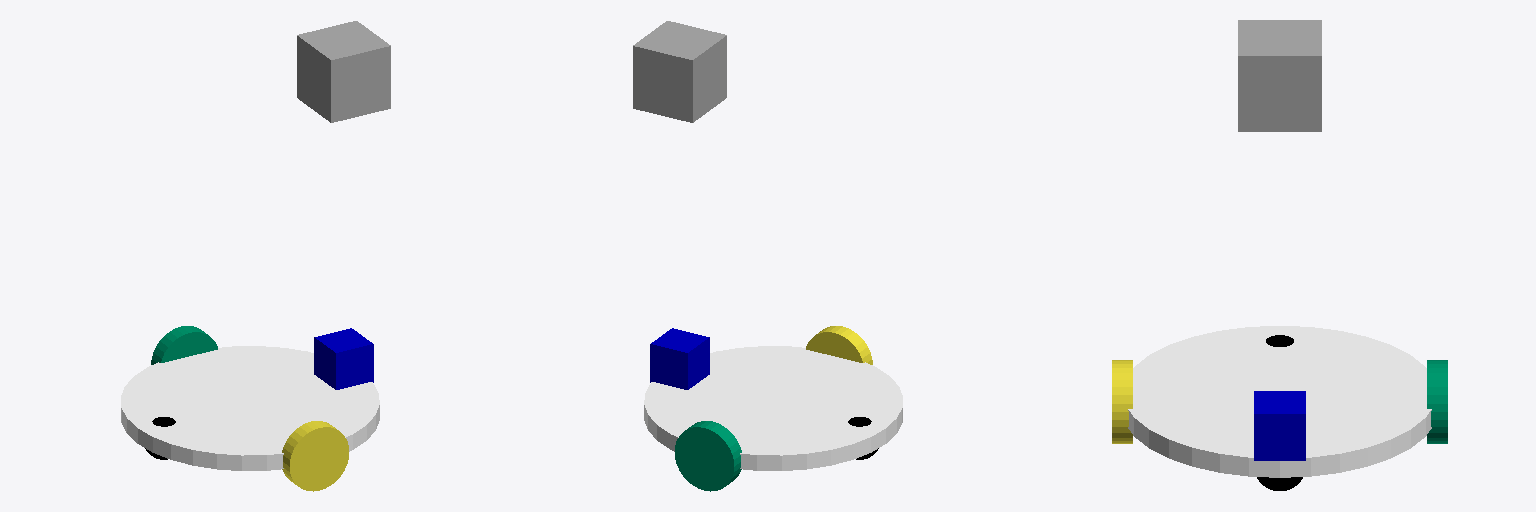
The robot description file, URDF, robot "differential_wheeled_robot":
<?xml version="1.0" ?>
<!-- =================================================================================== -->
<!-- |    This document was autogenerated by xacro from diff_wheeled_robot.xacro       | -->
<!-- |    EDITING THIS FILE BY HAND IS NOT RECOMMENDED                                 | -->
<!-- =================================================================================== -->
<robot name="differential_wheeled_robot" xmlns:xacro="http://www.ros.org/wiki/xacro">
  <!-- Wheels -->
  <!-- in kg-->
  <!-- Defining the colors used in this robot -->
  <material name="Black">
    <color rgba="0.0 0.0 0.0 1.0"/>
  </material>
  <material name="Red">
    <color rgba="0.8 0.0 0.0 1.0"/>
  </material>
  <material name="White">
    <color rgba="1.0 1.0 1.0 1.0"/>
  </material>
  <material name="Blue">
    <color rgba="0.0 0.0 0.8 1.0"/>
  </material>
  <!-- PROPERTY LIST -->
  <!--All units in m-kg-s-radians unit system -->
  <!-- Main body radius and height -->
  <!-- Main Body Cylinder base   -->
  <!-- in kg-->
  <!-- caster wheel radius and height -->
  <!-- caster wheel mass -->
  <!-- in kg-->
  <!-- caster wheel radius and height -->
  <!-- caster wheel mass -->
  <!-- in kg-->
  <!-- Wheels -->
   --&gt; 
  <!-- in kg-->
  <!-- Hokuyo Laser scanner -->
  <!-- Macro for calculating inertia of cylinder -->
  <!-- BASE-FOOTPRINT -->
  <!-- base_footprint is a fictitious link(frame) that is on the ground right below base_link origin -->
  <link name="base_footprint">
    <inertial>
      <mass value="0.0001"/>
      <origin xyz="0 0 0"/>
      <inertia ixx="0.0001" ixy="0.0" ixz="0.0" iyy="0.0001" iyz="0.0" izz="0.0001"/>
    </inertial>
    <visual>
      <origin rpy="0 0 0" xyz="0 0 0"/>
      <geometry>
        <box size="0.001 0.001 0.001"/>
      </geometry>
    </visual>
  </link>
  <gazebo reference="base_footprint">
    <turnGravityOff>false</turnGravityOff>
  </gazebo>
  <joint name="base_footprint_joint" type="fixed">
    <origin rpy="0 0 0" xyz="0 0 0.04"/>
    <parent link="base_footprint"/>
    <child link="base_link"/>
  </joint>
  <!-- BASE-LINK -->
  <!--Actual body/chassis of the robot-->
  <link name="base_link">
    <inertial>
      <mass value="5"/>
      <origin xyz="0 0 0"/>
      <!--The 3x3 rotational inertia matrix. -->
      <inertia ixx="0.0282916666667" ixy="0" ixz="0" iyy="0.0282916666667" iyz="0" izz="0.05625"/>
    </inertial>
    <visual>
      <origin rpy="0 0 0" xyz="0 0 0"/>
      <geometry>
        <cylinder length="0.02" radius="0.15"/>
      </geometry>
      <material name="White"/>
    </visual>
    <collision>
      <origin rpy="0 0 0 " xyz="0 0 0"/>
      <geometry>
        <cylinder length="0.02" radius="0.15"/>
      </geometry>
    </collision>
  </link>
  <gazebo reference="base_link">
    <material>Gazebo/White</material>
    <turnGravityOff>false</turnGravityOff>
  </gazebo>
  <!--fb : front, back ; lr: left, right -->
  <link name="front_right_wheel">
    <visual>
      <origin rpy="1.57079632679 0  0 " xyz="0 0 0"/>
      <geometry>
        <cylinder length="0.02" radius="0.04"/>
      </geometry>
      <material name="DarkGray"/>
    </visual>
    <collision>
      <origin rpy="1.57079632679 0 0 " xyz="0 0 0"/>
      <geometry>
        <cylinder length="0.02" radius="0.04"/>
      </geometry>
    </collision>
    <inertial>
      <mass value="2.5"/>
      <origin xyz="0 0 0"/>
      <inertia ixx="0.00108333333333" ixy="0" ixz="0" iyy="0.00108333333333" iyz="0" izz="0.002"/>
    </inertial>
  </link>
  <gazebo reference="front_right_wheel">
    <mu1 value="1.0"/>
    <mu2 value="1.0"/>
    <kp value="10000000.0"/>
    <kd value="1.0"/>
    <fdir1 value="1 0 0"/>
    <material>Gazebo/Grey</material>
    <turnGravityOff>false</turnGravityOff>
  </gazebo>
  <joint name="front_right_wheel_joint" type="continuous">
    <parent link="base_link"/>
    <child link="front_right_wheel"/>
    <origin rpy="0 0 0" xyz="0.0 0.15 0.0"/>
    <axis rpy="0  0" xyz="0 1 0"/>
    <limit effort="100" velocity="100"/>
    <joint_properties damping="0.0" friction="0.0"/>
  </joint>
  <!-- Transmission is important to link the joints and the controller -->
  <transmission name="front_right_wheel_joint_trans">
    <type>transmission_interface/SimpleTransmission</type>
    <joint name="front_right_wheel_joint"/>
    <actuator name="front_right_wheel_joint_motor">
      <hardwareInterface>EffortJointInterface</hardwareInterface>
      <mechanicalReduction>1</mechanicalReduction>
    </actuator>
  </transmission>
  <!--fb : front, back ; lr: left, right -->
  <link name="front_left_wheel">
    <visual>
      <origin rpy="1.57079632679 0  0 " xyz="0 0 0"/>
      <geometry>
        <cylinder length="0.02" radius="0.04"/>
      </geometry>
      <material name="DarkGray"/>
    </visual>
    <collision>
      <origin rpy="1.57079632679 0 0 " xyz="0 0 0"/>
      <geometry>
        <cylinder length="0.02" radius="0.04"/>
      </geometry>
    </collision>
    <inertial>
      <mass value="2.5"/>
      <origin xyz="0 0 0"/>
      <inertia ixx="0.00108333333333" ixy="0" ixz="0" iyy="0.00108333333333" iyz="0" izz="0.002"/>
    </inertial>
  </link>
  <gazebo reference="front_left_wheel">
    <mu1 value="1.0"/>
    <mu2 value="1.0"/>
    <kp value="10000000.0"/>
    <kd value="1.0"/>
    <fdir1 value="1 0 0"/>
    <material>Gazebo/Grey</material>
    <turnGravityOff>false</turnGravityOff>
  </gazebo>
  <joint name="front_left_wheel_joint" type="continuous">
    <parent link="base_link"/>
    <child link="front_left_wheel"/>
    <origin rpy="0 0 0" xyz="0.0 -0.15 0.0"/>
    <axis rpy="0  0" xyz="0 1 0"/>
    <limit effort="100" velocity="100"/>
    <joint_properties damping="0.0" friction="0.0"/>
  </joint>
  <!-- Transmission is important to link the joints and the controller -->
  <transmission name="front_left_wheel_joint_trans">
    <type>transmission_interface/SimpleTransmission</type>
    <joint name="front_left_wheel_joint"/>
    <actuator name="front_left_wheel_joint_motor">
      <hardwareInterface>EffortJointInterface</hardwareInterface>
      <mechanicalReduction>1</mechanicalReduction>
    </actuator>
  </transmission>
  <!--Caster front  -->
  <link name="caster_front_link">
    <visual>
      <origin rpy="1.57079632679 0 0" xyz="0 0.02 0"/>
      <geometry>
        <sphere radius="0.025"/>
      </geometry>
      <material name="Black"/>
    </visual>
    <collision>
      <geometry>
        <sphere radius="0.025"/>
      </geometry>
      <origin rpy="1.57079632679 0 0" xyz="0 0.02 0"/>
    </collision>
    <inertial>
      <mass value="0.5"/>
      <origin xyz="0 0 0"/>
      <inertia ixx="0.001" ixy="0.0" ixz="0.0" iyy="0.001" iyz="0.0" izz="0.001"/>
    </inertial>
  </link>
  <joint name="caster_front_joint" type="fixed">
    <parent link="base_link"/>
    <child link="caster_front_link"/>
    <origin rpy="-1.57079632679 0 0" xyz="0.115 0.0 0.007"/>
  </joint>
  <gazebo reference="caster_front_link">
    <turnGravityOff>false</turnGravityOff>
  </gazebo>
  <!--Caster back  -->
  <link name="caster_back_link">
    <visual>
      <origin rpy="1.57079632679 0 0" xyz="0.02 0.02 0 "/>
      <geometry>
        <sphere radius="0.025"/>
      </geometry>
      <material name="Black"/>
    </visual>
    <collision>
      <geometry>
        <sphere radius="0.025"/>
      </geometry>
      <origin rpy="1.57079632679 0 0" xyz="0 0.02 0 "/>
    </collision>
    <inertial>
      <mass value="0.5"/>
      <origin xyz="0 0 0"/>
      <inertia ixx="0.001" ixy="0.0" ixz="0.0" iyy="0.001" iyz="0.0" izz="0.001"/>
    </inertial>
  </link>
  <joint name="caster_back_joint" type="fixed">
    <parent link="base_link"/>
    <child link="caster_back_link"/>
    <origin rpy="-1.57079632679 0 0" xyz="-0.135 0.0 0.009"/>
  </joint>
  <gazebo reference="caster_back_link">
    <turnGravityOff>false</turnGravityOff>
  </gazebo>
  <!-- SENSORS -->
  <!-- hokuyo -->
  <link name="hokuyo_link">
    <visual>
      <origin rpy="0 0 0" xyz="0 0 0"/>
      <geometry>
        <box size="0.05 0.05 0.05"/>
      </geometry>
      <material name="Blue"/>
    </visual>
  </link>
  <joint name="hokuyo_joint" type="fixed">
    <origin rpy="0 0 0" xyz="0.125 0 0.0325"/>
    <parent link="base_link"/>
    <child link="hokuyo_link"/>
  </joint>
  <gazebo reference="hokuyo_link">
    <material>Gazebo/Blue</material>
    <turnGravityOff>false</turnGravityOff>
    <sensor name="head_hokuyo_sensor" type="ray">
      <pose>0.025 0 0 0 0 0</pose>
      <visualize>false</visualize>
      <update_rate>40</update_rate>
      <ray>
        <scan>
          <horizontal>
            <samples>720</samples>
            <resolution>1</resolution>
            <min_angle>-1.5707</min_angle>
            <max_angle>1.5707</max_angle>
          </horizontal>
        </scan>
        <range>
          <min>0.10</min>
          <max>10.0</max>
          <resolution>0.001</resolution>
        </range>
      </ray>
      <plugin filename="libgazebo_ros_laser.so" name="gazebo_ros_head_hokuyo_controller">
        <topicName>/scan</topicName>
        <frameName>hokuyo_link</frameName>
      </plugin>
    </sensor>
  </gazebo>
  
  <!-- Camera -->
  <link name="camera_link">
    <visual>
      <origin xyz="0 0 0" rpy="0 0 0" />
      <geometry>
        <box size="0.08 0.08 0.08"/>
      </geometry>
      <material name="Gray" />
    </visual>
  </link>
  <joint name="camera_joint" type="fixed">
    <origin rpy="0 0 0" xyz="0.125 0 0.4"/>
    <parent link="base_link"/>
    <child link="camera_link" />
  </joint>

<gazebo reference="camera_link">
    <sensor type="camera" name="camera1">
      <update_rate>30.0</update_rate>
      <camera name="head">
        <horizontal_fov>1.3962634</horizontal_fov>
        <image>
          <width>640</width>
          <height>480</height>
          <format>R8G8B8</format>
        </image>
        <clip>
          <near>0.02</near>
          <far>300</far>
        </clip>
        <noise>
          <type>gaussian</type>
          <!-- Noise is sampled independently per pixel on each frame.
               That pixel's noise value is added to each of its color
               channels, which at that point lie in the range [0,1]. -->
          <mean>0.0</mean>
          <stddev>0.007</stddev>
        </noise>
      </camera>
      <plugin name="camera_controller" filename="libgazebo_ros_camera.so">
        <alwaysOn>true</alwaysOn>
        <updateRate>0.0</updateRate>
        <cameraName>diff_robot/camera</cameraName>
        <imageTopicName>image_raw</imageTopicName>
        <cameraInfoTopicName>camera_info</cameraInfoTopicName>
        <frameName>camera_link</frameName>
        <hackBaseline>0.07</hackBaseline>
        <distortionK1>0.0</distortionK1>
        <distortionK2>0.0</distortionK2>
        <distortionK3>0.0</distortionK3>
        <distortionT1>0.0</distortionT1>
        <distortionT2>0.0</distortionT2>
      </plugin>
    </sensor>
  </gazebo>
  
  <!-- Differential drive controller  -->
  <gazebo>
    <plugin filename="libgazebo_ros_diff_drive.so" name="differential_drive_controller_front">
      <rosDebugLevel>Debug</rosDebugLevel>
      <publishWheelTF>True</publishWheelTF>
      <publishTf>1</publishTf>
      <publishWheelJointState>true</publishWheelJointState>
      <alwaysOn>true</alwaysOn>
      <updateRate>100.0</updateRate>
      <leftJoint>front_left_wheel_joint</leftJoint>
      <rightJoint>front_right_wheel_joint</rightJoint>
      <wheelSeparation>0.3</wheelSeparation>
      <wheelDiameter>0.08</wheelDiameter>
      <broadcastTF>1</broadcastTF>
      <wheelTorque>30</wheelTorque>
      <wheelAcceleration>1.8</wheelAcceleration>
      <commandTopic>cmd_vel</commandTopic>
      <odometryFrame>odom</odometryFrame>
      <odometryTopic>odom</odometryTopic>
      <robotBaseFrame>base_link</robotBaseFrame>
    </plugin>
  </gazebo>
  <!--
	  <gazebo>
	    <plugin name="kobuki_controller" filename="libgazebo_ros_kobuki.so">
	      <publish_tf>1</publish_tf>
	      <left_wheel_joint_name>front_left_wheel_joint</left_wheel_joint_name>
	      <right_wheel_joint_name>front_right_wheel_joint</right_wheel_joint_name>
	      <wheel_separation>.30</wheel_separation>
	      <wheel_diameter>0.08</wheel_diameter>
	      <torque>30.0</torque>
	      <velocity_command_timeout>0.6</velocity_command_timeout>


	    </plugin>
	  </gazebo>

-->
  <!--
<gazebo>
    <plugin name="gazebo_ros_control" filename="libgazebo_ros_control.so" />
    <plugin filename="libgazebo_ros_joint_state_publisher.so" name="joint_state_publisher">
      <jointName>front_right_wheel_joint, front_left_wheel_joint</jointName>
      <updateRate>10.0</updateRate>
      <alwaysOn>true</alwaysOn>
    </plugin>
</gazebo>
-->
</robot>

--- Render facts (derived) ---
3 views of the same robot in one strip: view 1: azimuth 30°, elevation 25°; view 2: azimuth 150°, elevation 25°; view 3: azimuth 270°, elevation 25° (orthographic).
Robot: differential_wheeled_robot — 8 links, 7 joints (2 continuous, 5 fixed); root link base_footprint; default pose: all joints at 0.
Visible links, largest first — view 1: base_link, camera_link, front_left_wheel, hokuyo_link, front_right_wheel; view 2: base_link, camera_link, front_right_wheel, hokuyo_link, front_left_wheel; view 3: base_link, camera_link, hokuyo_link, front_right_wheel, front_left_wheel.
Link boxes in pixels (x1,y1,x2,y2): base_link: (121,346,379,470); camera_link: (297,21,390,122); front_left_wheel: (282,421,348,491); hokuyo_link: (314,328,373,389); front_right_wheel: (151,326,217,364); base_link: (644,346,902,470); camera_link: (633,21,726,122); front_right_wheel: (675,421,741,491); hokuyo_link: (650,328,709,389); front_left_wheel: (806,326,872,364); base_link: (1128,326,1431,477); camera_link: (1238,20,1321,131); hokuyo_link: (1254,391,1305,460); front_right_wheel: (1427,360,1447,443); front_left_wheel: (1112,360,1132,443).
Bounding box of the posed robot: 0.315 × 0.32 × 0.4805 m (x, y, z).
Geometry: primitives only (box / cylinder / sphere), no mesh files.
